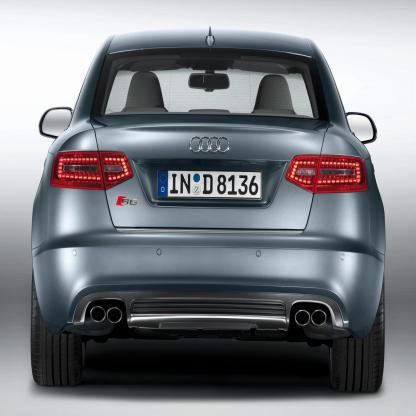Vehicle: (28, 26, 390, 395)
